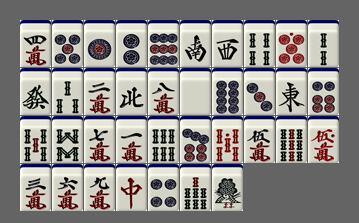0m: (308, 116, 339, 163)
0p: (276, 20, 307, 67)
0s: (212, 116, 243, 163)
1m: (116, 116, 147, 163)
1p: (84, 20, 115, 67)
1s: (212, 164, 243, 211)
1z: (276, 68, 307, 115)
2m: (84, 68, 115, 115)
2p: (116, 20, 147, 67)
2s: (308, 20, 339, 67)
2z: (180, 20, 211, 67)
3m: (20, 164, 51, 211)
3p: (244, 68, 275, 115)
3s: (52, 68, 83, 115)
3z: (212, 20, 243, 67)
4m: (20, 20, 51, 67)
4p: (148, 164, 179, 211)
4s: (244, 20, 275, 67)
4z: (116, 68, 147, 115)
5m: (244, 116, 275, 163)
5p: (52, 20, 83, 67)
5s: (20, 116, 51, 163)
5z: (180, 68, 211, 115)
6m: (52, 164, 83, 211)
6p: (308, 68, 339, 115)
6s: (148, 116, 179, 163)
6z: (20, 68, 51, 115)
7m: (84, 116, 115, 163)
7p: (180, 116, 211, 163)
7s: (180, 164, 211, 211)
7z: (116, 164, 147, 211)
8m: (148, 68, 179, 115)
8p: (212, 68, 243, 115)
8s: (52, 116, 83, 163)
9m: (84, 164, 115, 211)
9p: (148, 20, 179, 67)
9s: (276, 116, 307, 163)
